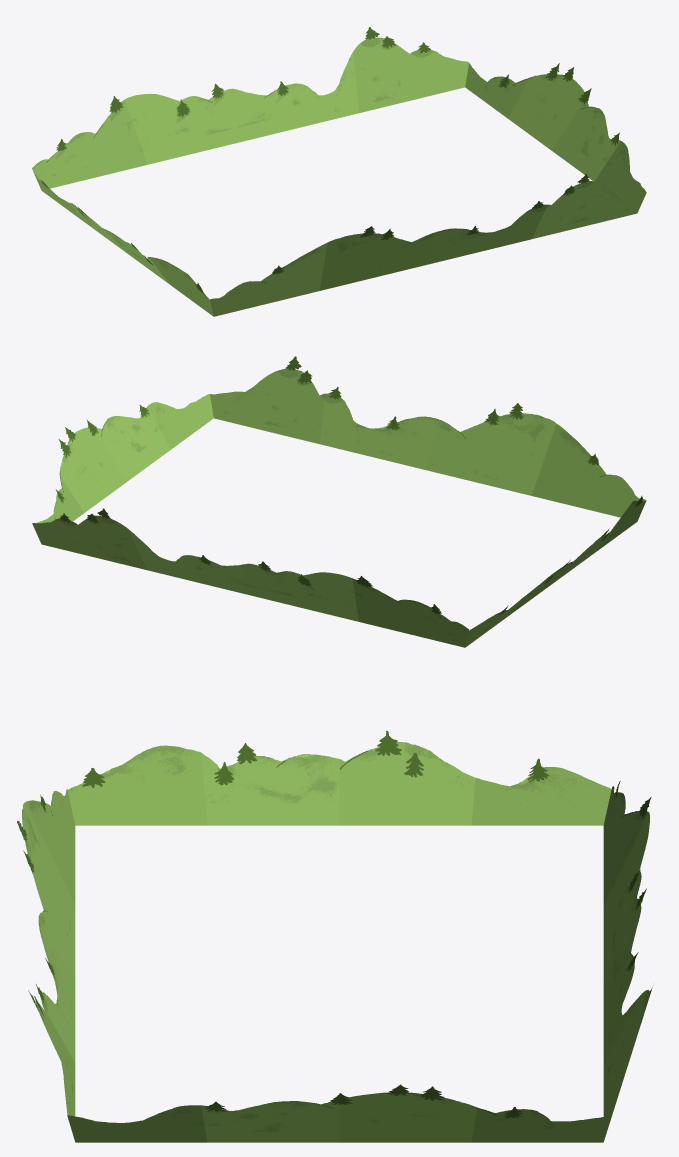
Rendered from hills2.fbx.
3 renders of one model, top to bottom at view 1: azimuth 30°, elevation 25°; view 2: azimuth 150°, elevation 25°; view 3: azimuth 270°, elevation 25°, orthographic. The views are drawn at different scales.
Visible parts, largest first — view 1: Plane001; view 2: Plane001; view 3: Plane001.
Part boxes in pixels (bbox=[...]): Plane001: bbox=[32, 27, 646, 316]; Plane001: bbox=[32, 356, 646, 647]; Plane001: bbox=[17, 730, 652, 1142].
Size of the model in its own units: 208 by 26.27 by 143.
1 material, 1 textured.
